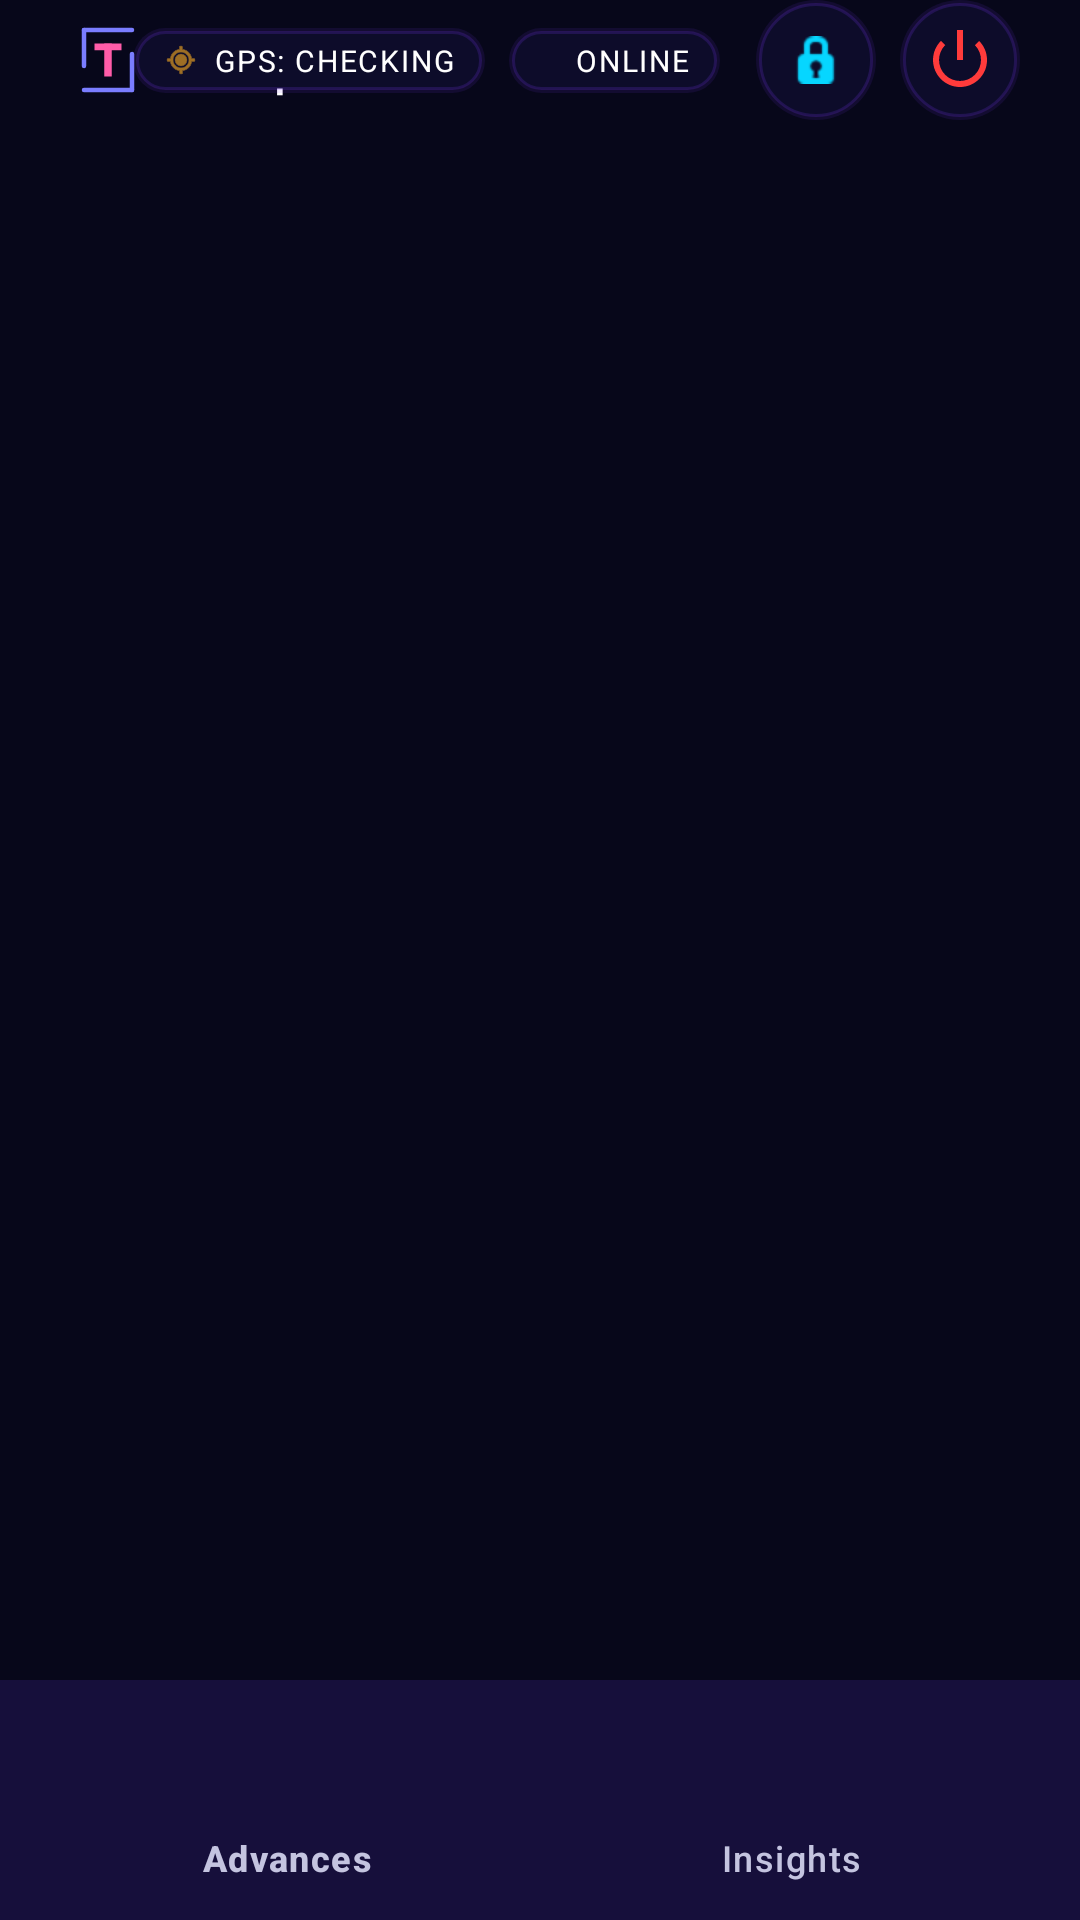

Named icons in this screenshot (1080px×1920px) and their bounding boxes, bbox(x1, y1, x2, y2):
lock power off: bbox(900, 0, 1020, 120)
mylocation: bbox(167, 46, 195, 74)
secure: bbox(756, 0, 876, 120)
